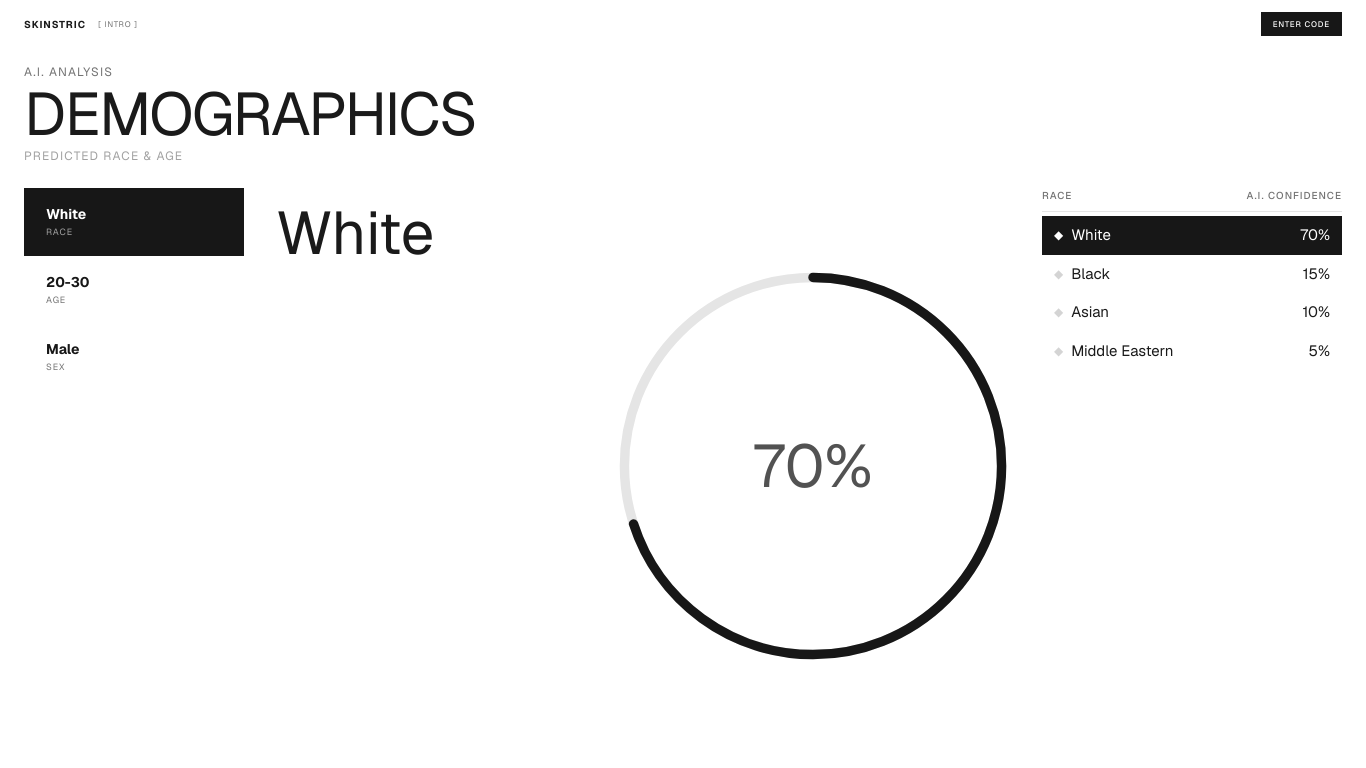
Scenario: Summary Page › switches to age category when Age sidebar button is clicked
The age button shows the top age value
Click the text "Age" at (56, 300), box 46,294 -> 66,306
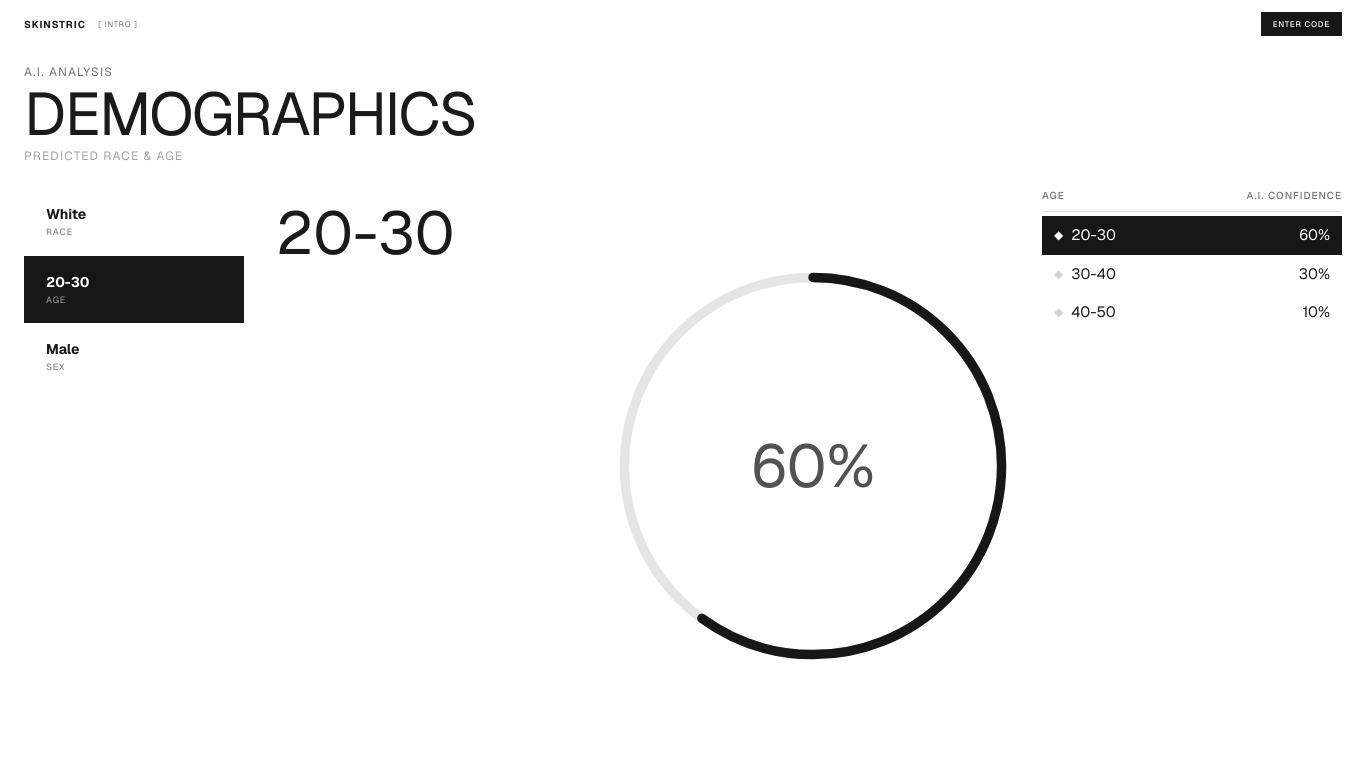
Check: the 3rd text "20-30" is shown, box 46,272 -> 90,290
Check: the 2nd text "60%" is shown, box 751,436 -> 875,496
